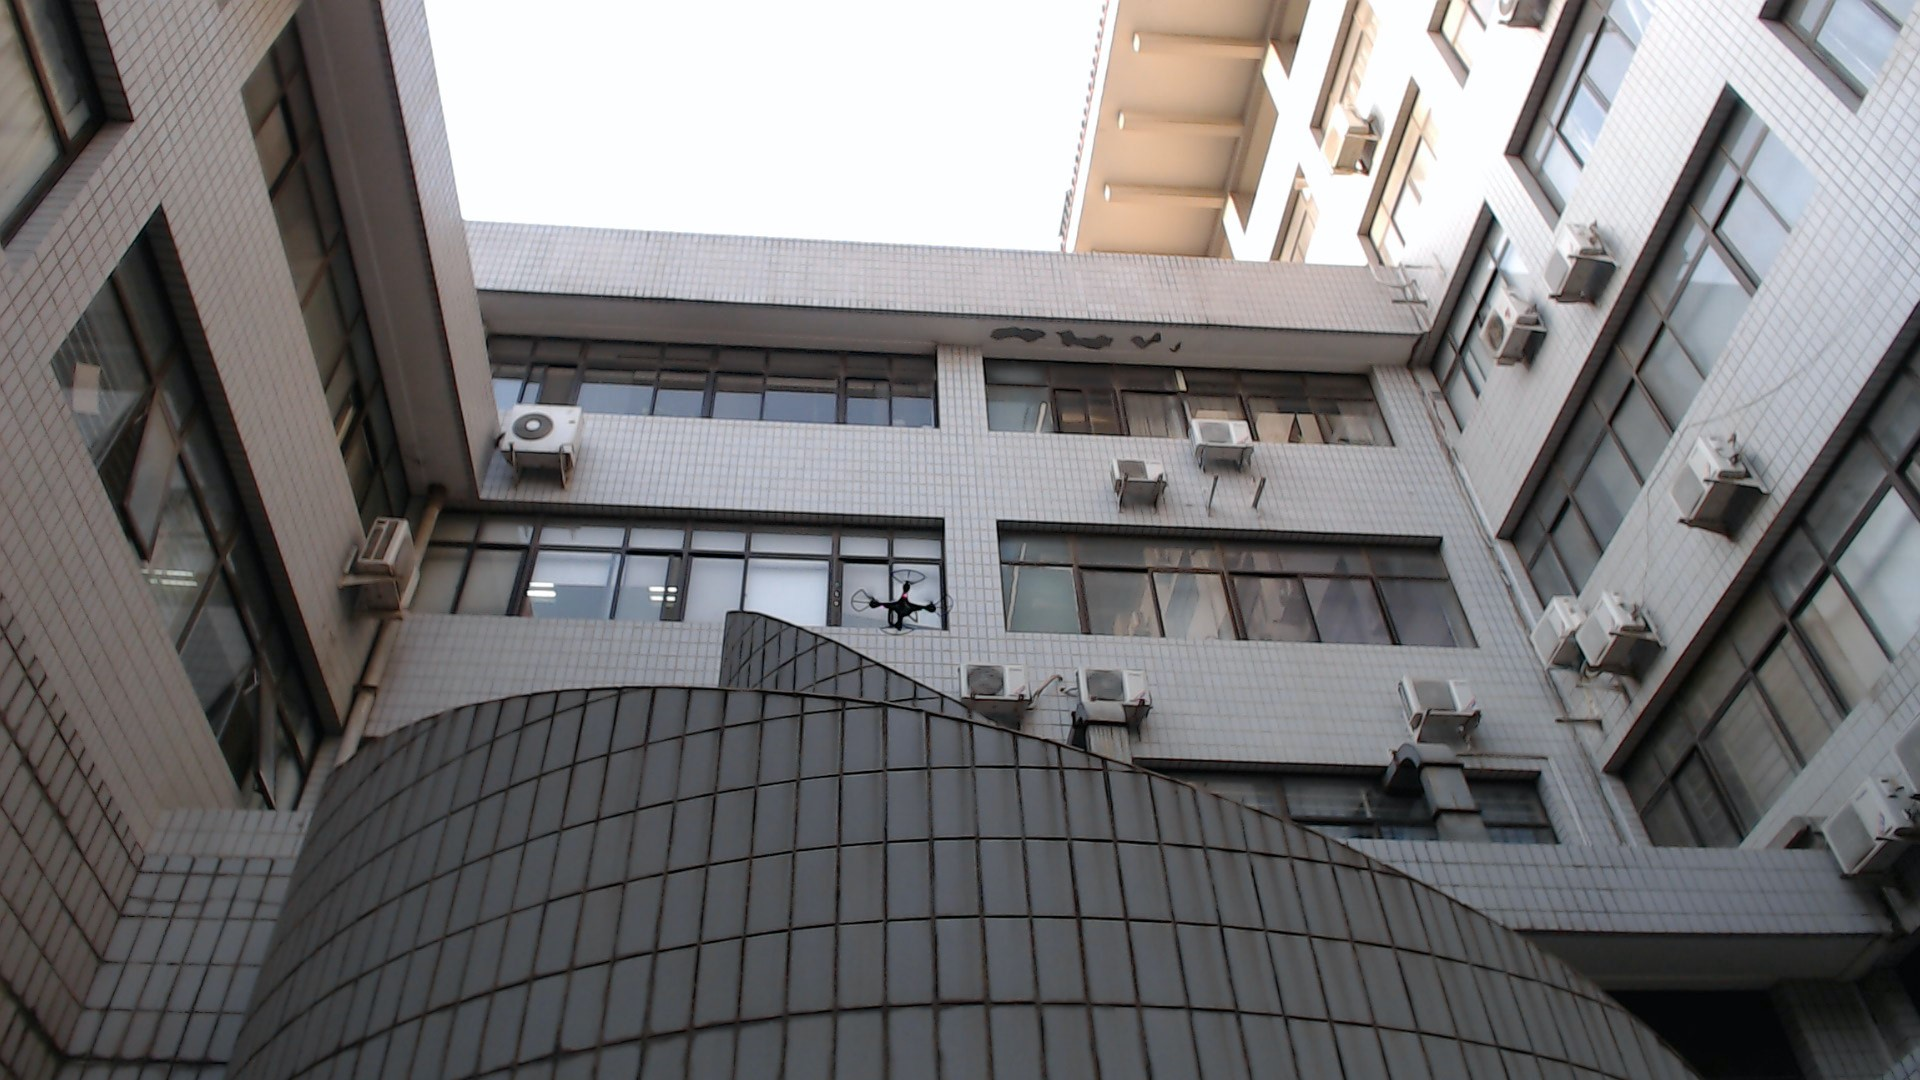drone: (829, 553, 981, 654)
